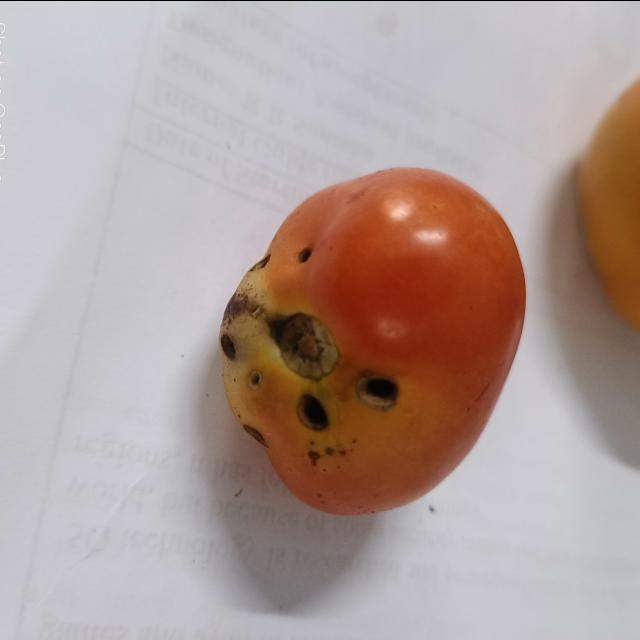fruitworm_bore: (288, 368, 418, 438), (217, 326, 267, 390), (258, 240, 324, 278)
